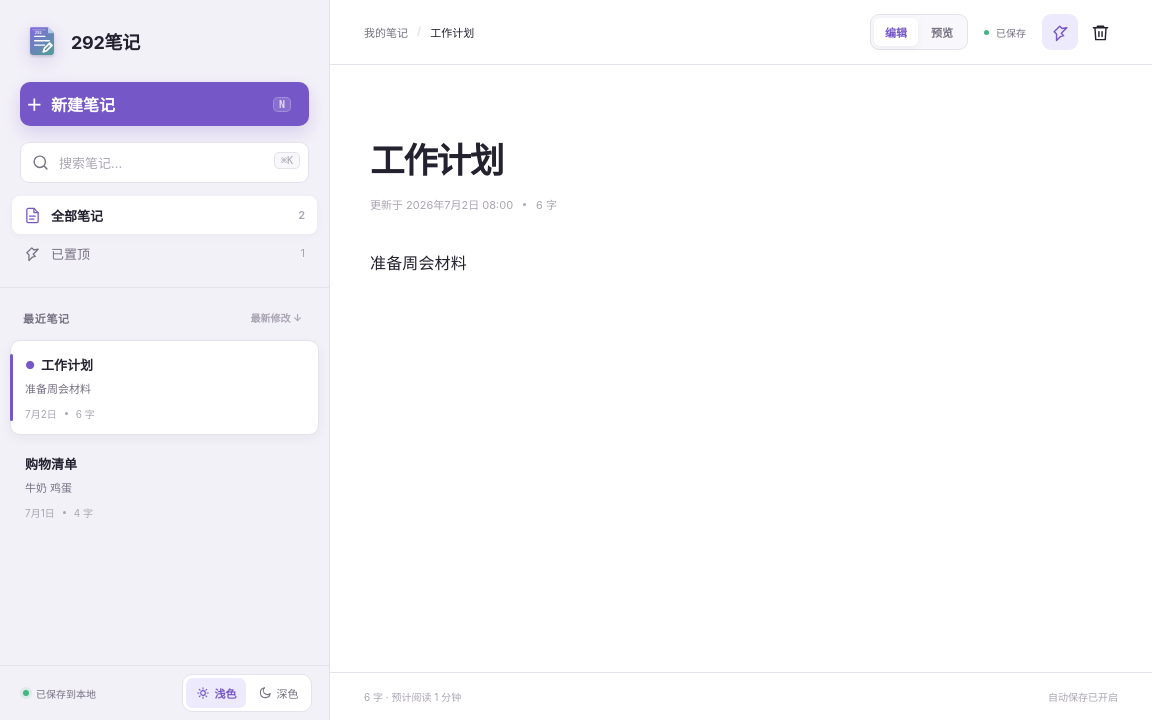
App › searches notes and filters pinned notes in the list
Expected: the field showing "工作计划" is shown, 370,139 -> 1112,182
Type "牛奶" into the search field labelled "搜索笔记" at (164, 162), box 20,142 -> 309,183
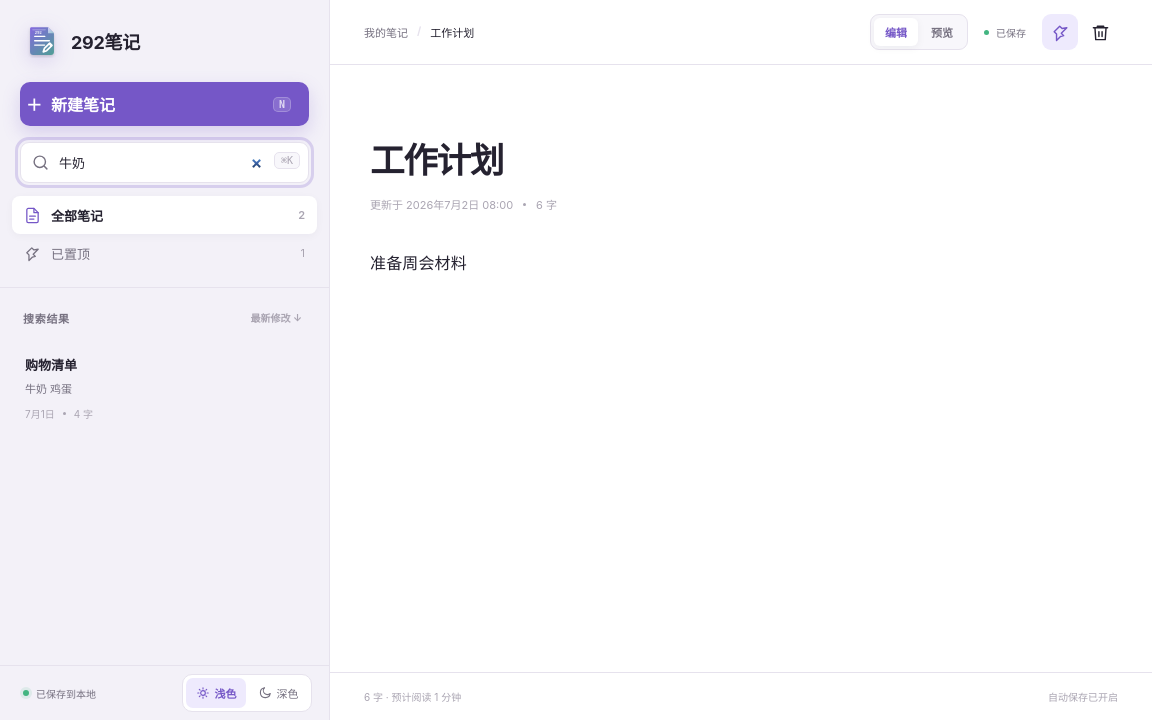
Expected: the text "购物清单" is shown, 25,357 -> 77,373
Clear the search field named "搜索笔记" at (164, 162), box 20,142 -> 309,183
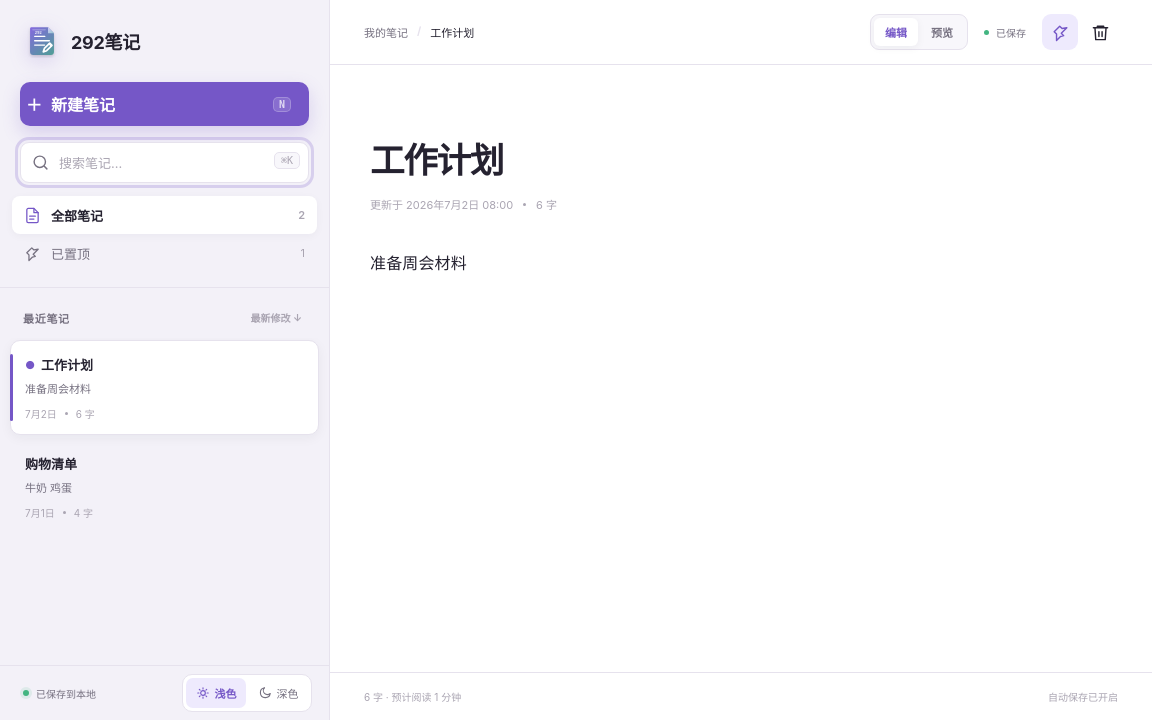
Click the button "已置顶 1" at (71, 254), box 12,234 -> 317,272
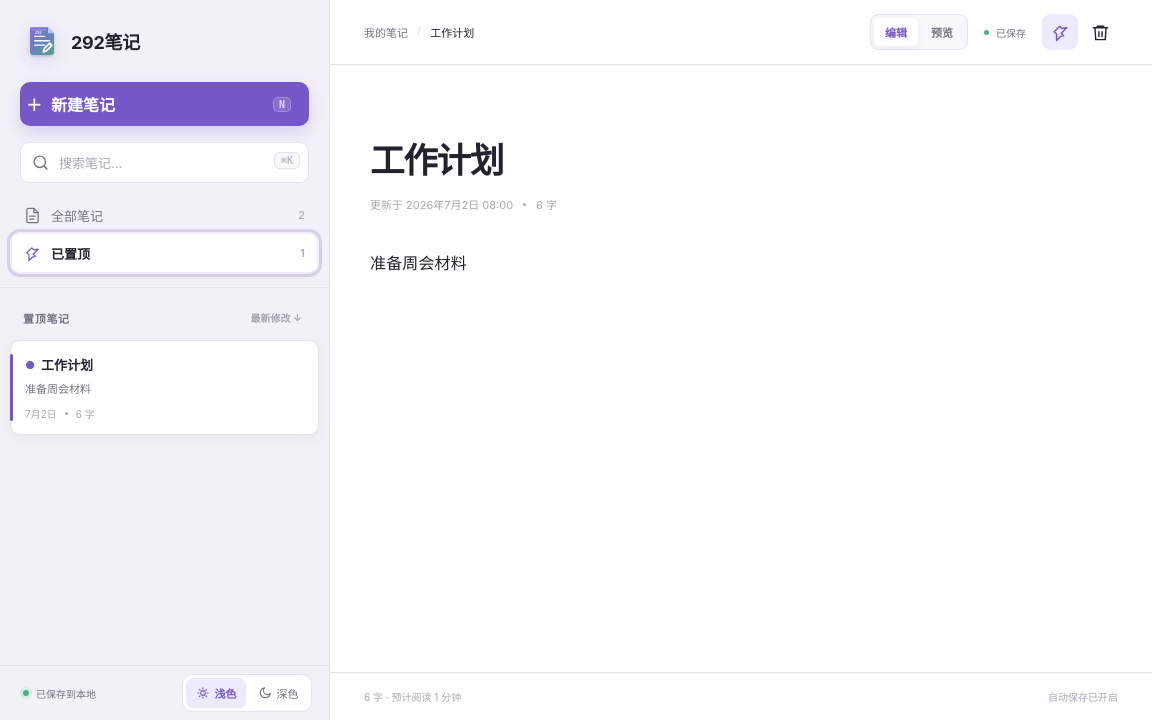
Now the text "工作计划" is shown, box 41,357 -> 93,373
Now the list item "购物清单" is gone
